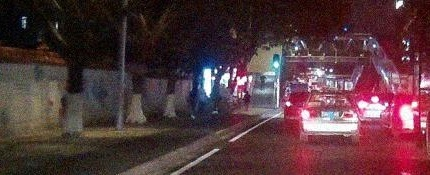L_light: (301, 109, 319, 117)
R_light: (342, 111, 359, 117)
T_light: (326, 94, 337, 97)
night-left: (299, 91, 360, 144)
